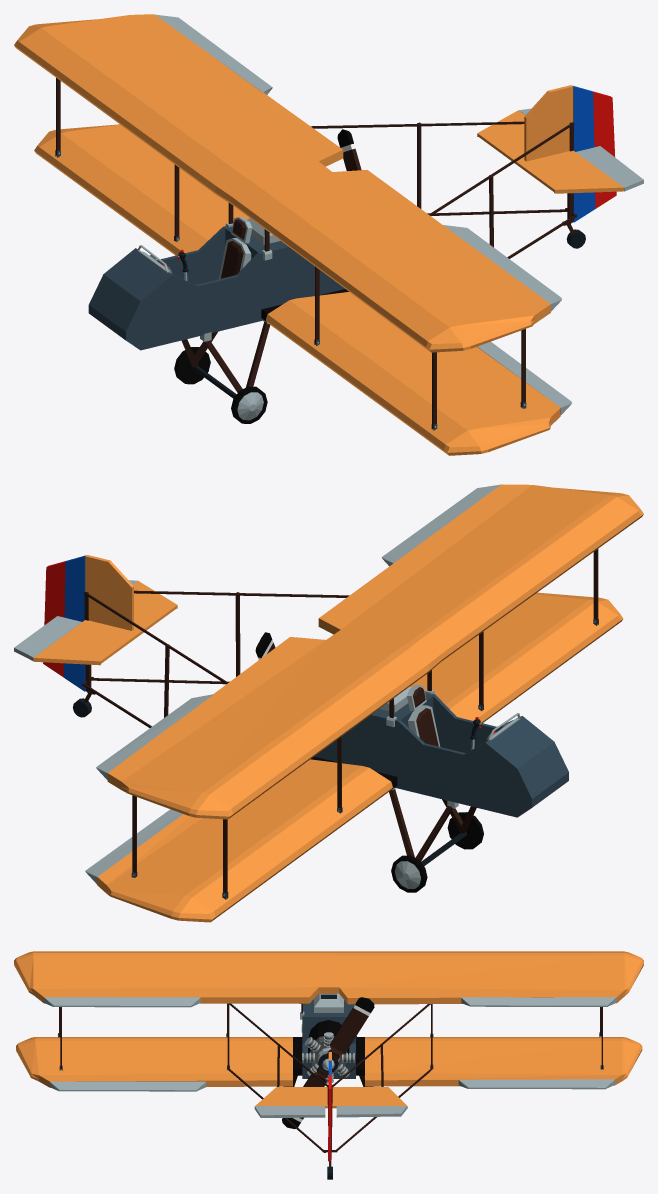
File: drone.obj
3 views of the same model, one above another, from view 1: azimuth 30°, elevation 25°; view 2: azimuth 150°, elevation 25°; view 3: azimuth 270°, elevation 25° (orthographic). The views are drawn at different scales.
Parts seen in each view (by area): view 1: group698876567, group1802364079, group189737053, group1716274007, group900679359, group320067917, group499944981, group1181672070, group1092611997, group1865082088, group507084870, group1418262418 (+9 smaller); view 2: group1802364079, group698876567, group1716274007, group189737053, group900679359, group507084870, group499944981, group1181672070, group1092611997, group1865082088, group320067917, group163444437 (+9 smaller); view 3: group1802364079, group698876567, group189737053, group1716274007, group499944981, group1441461533, group682649018, group163444437, group15510366, group761413090, group1181672070, group1418262418 (+6 smaller).
Boxes of the visible parts, x1,y1,x2,y2 form: group698876567: [231, 170, 550, 352]; group1802364079: [14, 14, 343, 194]; group189737053: [266, 292, 560, 455]; group1716274007: [34, 124, 249, 255]; group900679359: [88, 248, 172, 350]; group320067917: [171, 252, 260, 337]; group499944981: [477, 110, 623, 193]; group1181672070: [223, 226, 344, 321]; group1092611997: [572, 85, 616, 222]; group1865082088: [524, 85, 573, 161]; group507084870: [157, 227, 225, 284]; group1418262418: [215, 161, 331, 204]; group1802364079: [107, 637, 429, 819]; group698876567: [318, 484, 643, 661]; group1716274007: [97, 759, 392, 922]; group189737053: [410, 592, 623, 723]; group900679359: [485, 716, 568, 817]; group507084870: [398, 720, 485, 809]; group499944981: [33, 581, 177, 665]; group1181672070: [314, 693, 434, 788]; group1092611997: [43, 555, 85, 691]; group1865082088: [85, 555, 133, 630]; group320067917: [433, 694, 521, 752]; group163444437: [381, 484, 500, 566]; group1802364079: [339, 951, 643, 1004]; group698876567: [14, 951, 318, 1003]; group189737053: [16, 1037, 292, 1087]; group1716274007: [365, 1037, 642, 1086]; group499944981: [255, 1087, 407, 1108]; group1441461533: [282, 997, 374, 1128]; group682649018: [49, 1081, 206, 1091]; group163444437: [44, 997, 200, 1007]; group15510366: [458, 1079, 615, 1089]; group761413090: [461, 997, 616, 1006]; group1181672070: [302, 999, 355, 1078]; group1418262418: [318, 951, 339, 993].
Bounding box in the file's own units: 5.53 × 2.41 × 8.21.
